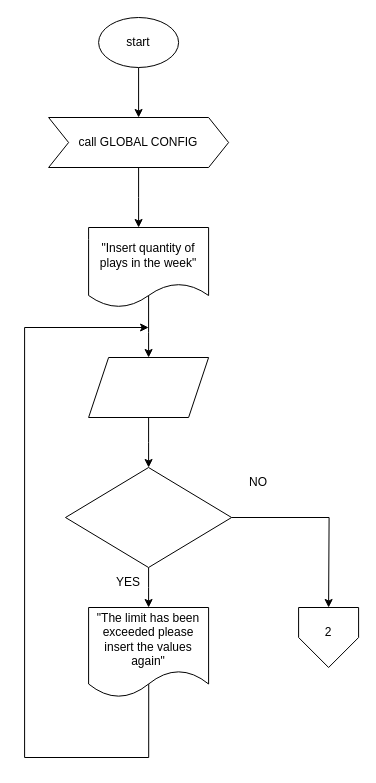
This 376x783 diagram has some shape labels left out. Each missing label, with the box of its shape:
&plays_of_week;: (88, 356, 209, 418)
plays_of_week > max_score_games[10]: (64, 466, 232, 568)
